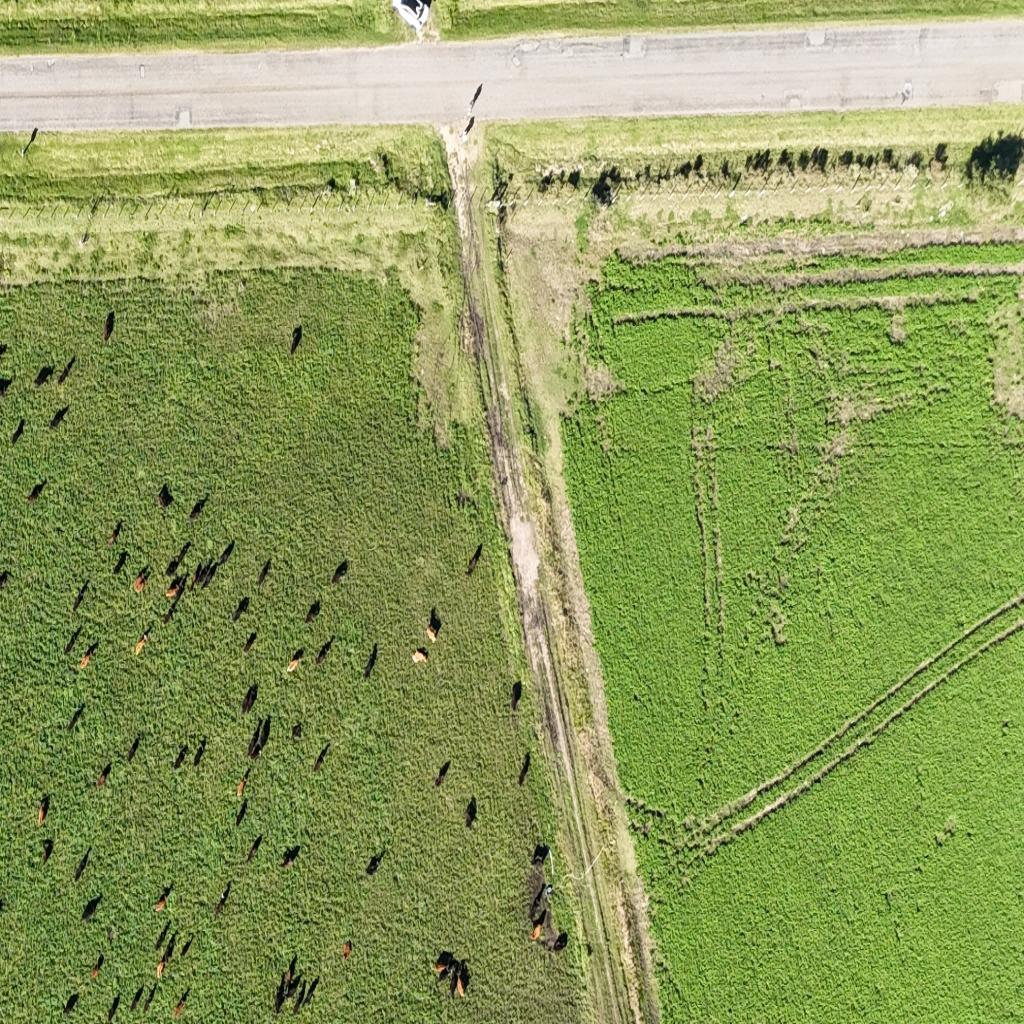cow: (168, 540, 191, 574), (158, 934, 175, 979), (81, 893, 102, 923), (154, 920, 171, 956), (240, 683, 258, 717), (215, 541, 234, 573), (246, 722, 262, 760), (214, 881, 231, 916), (172, 987, 190, 1020), (72, 580, 89, 613), (258, 715, 271, 757), (136, 624, 153, 656), (74, 847, 90, 881), (58, 355, 76, 385), (363, 643, 377, 681), (32, 364, 54, 388), (314, 742, 331, 773), (68, 704, 85, 734), (365, 849, 383, 877), (133, 566, 151, 594), (316, 637, 334, 665), (50, 404, 70, 429), (166, 575, 186, 600), (281, 844, 300, 870), (532, 841, 551, 867), (95, 761, 112, 790), (428, 607, 442, 642), (256, 558, 272, 588), (246, 833, 262, 863), (434, 760, 451, 788), (232, 596, 249, 624), (518, 750, 531, 786), (189, 496, 207, 522), (467, 546, 482, 577), (65, 625, 81, 654), (36, 794, 50, 827), (111, 549, 128, 576), (27, 480, 46, 504), (129, 983, 144, 1013), (157, 482, 173, 510), (144, 982, 158, 1014), (155, 884, 171, 912), (172, 744, 188, 772), (102, 311, 115, 345), (464, 795, 477, 829), (287, 648, 304, 674), (106, 520, 122, 547), (12, 416, 26, 446), (106, 992, 120, 1022), (126, 734, 141, 762), (332, 558, 348, 584), (193, 737, 206, 769), (304, 599, 320, 625), (63, 990, 79, 1015), (91, 952, 104, 982), (162, 602, 178, 626), (551, 930, 568, 952), (290, 325, 302, 356), (181, 932, 194, 960), (511, 680, 522, 712), (236, 798, 248, 827), (238, 770, 250, 798), (42, 837, 54, 864), (0, 372, 13, 396), (244, 630, 257, 654), (449, 964, 458, 998), (531, 918, 543, 943), (201, 568, 212, 595), (412, 648, 428, 666), (198, 562, 210, 586), (438, 966, 453, 985), (456, 973, 466, 998), (274, 984, 282, 1014), (433, 956, 450, 970), (0, 570, 11, 591), (190, 568, 198, 595), (292, 721, 302, 741), (292, 998, 302, 1018), (80, 653, 91, 670), (286, 983, 298, 998), (342, 940, 350, 960), (306, 988, 314, 1008), (0, 343, 9, 359), (286, 968, 291, 988)
